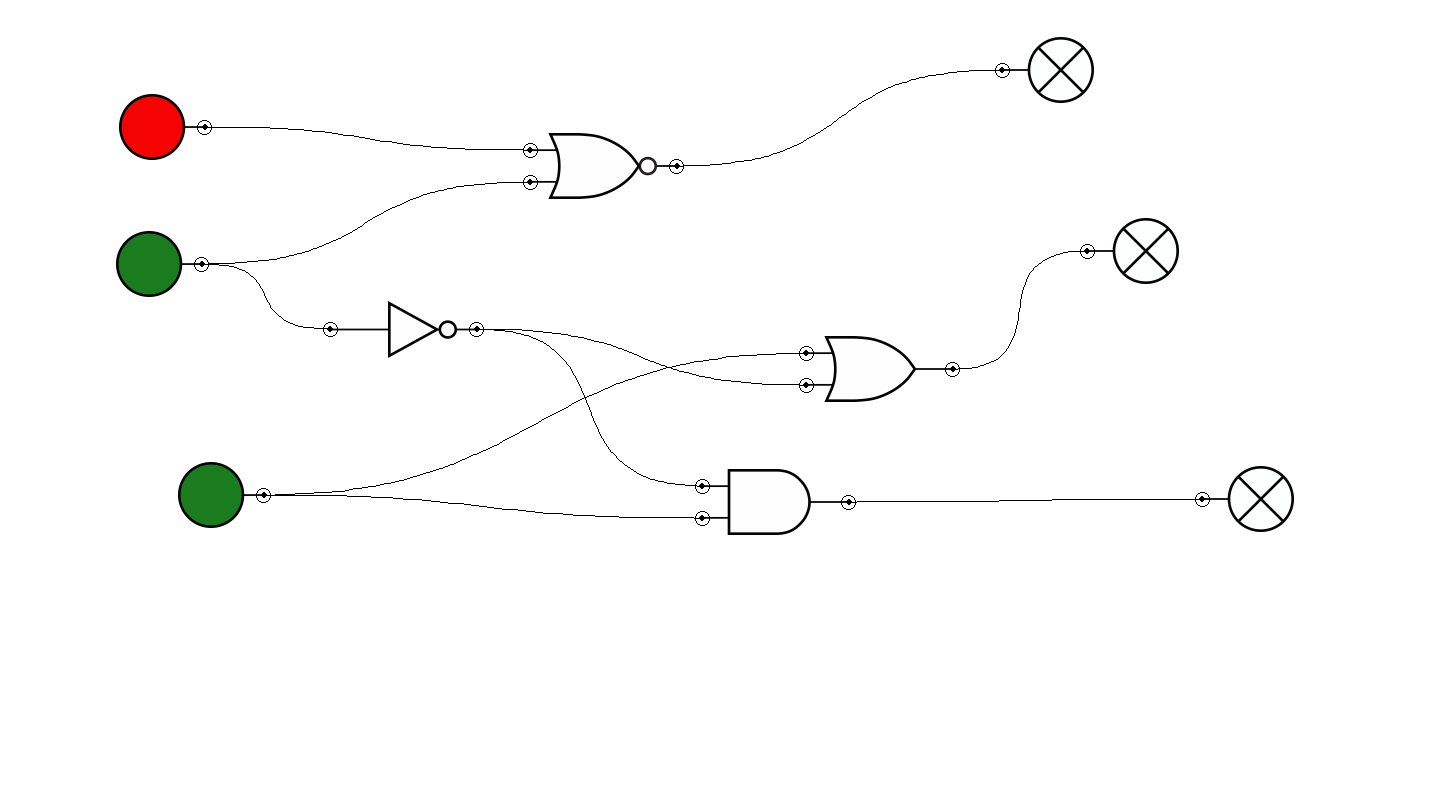and: (695, 469, 856, 535)
bulb: (1195, 466, 1294, 532), (1080, 218, 1179, 284), (995, 37, 1094, 103)
nor: (523, 133, 684, 199)
not: (323, 301, 484, 358)
or: (799, 336, 960, 402)
switch_False: (119, 94, 212, 160)
switch_True: (178, 462, 271, 528), (116, 231, 209, 297)
